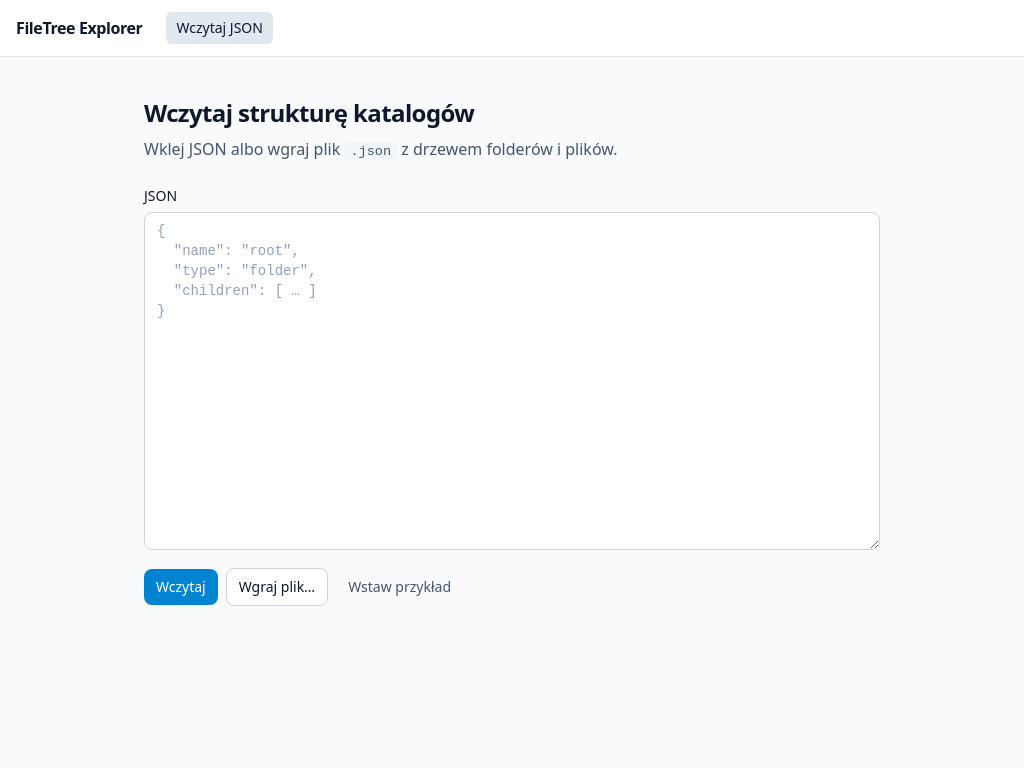
Test: routing › loads pasted JSON and opens the tree
Click the button "Wstaw przykład".
click(400, 587)  # box [336, 569, 463, 605]
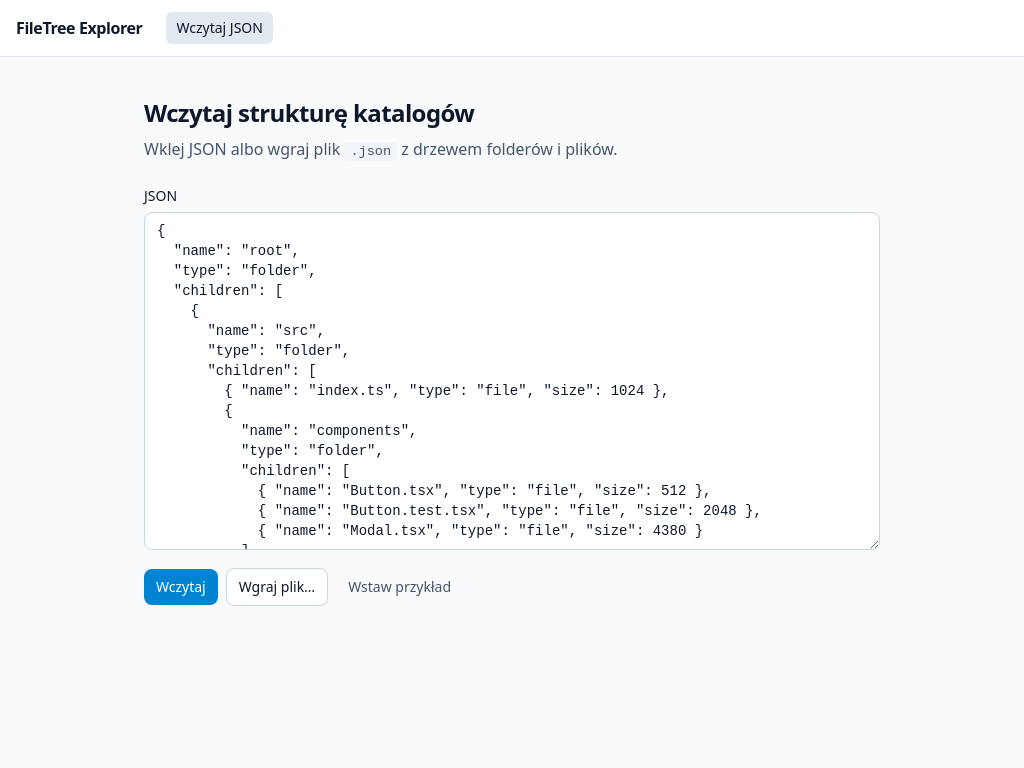
Click the button "Wczytaj".
click(181, 587)  # box [144, 569, 218, 605]
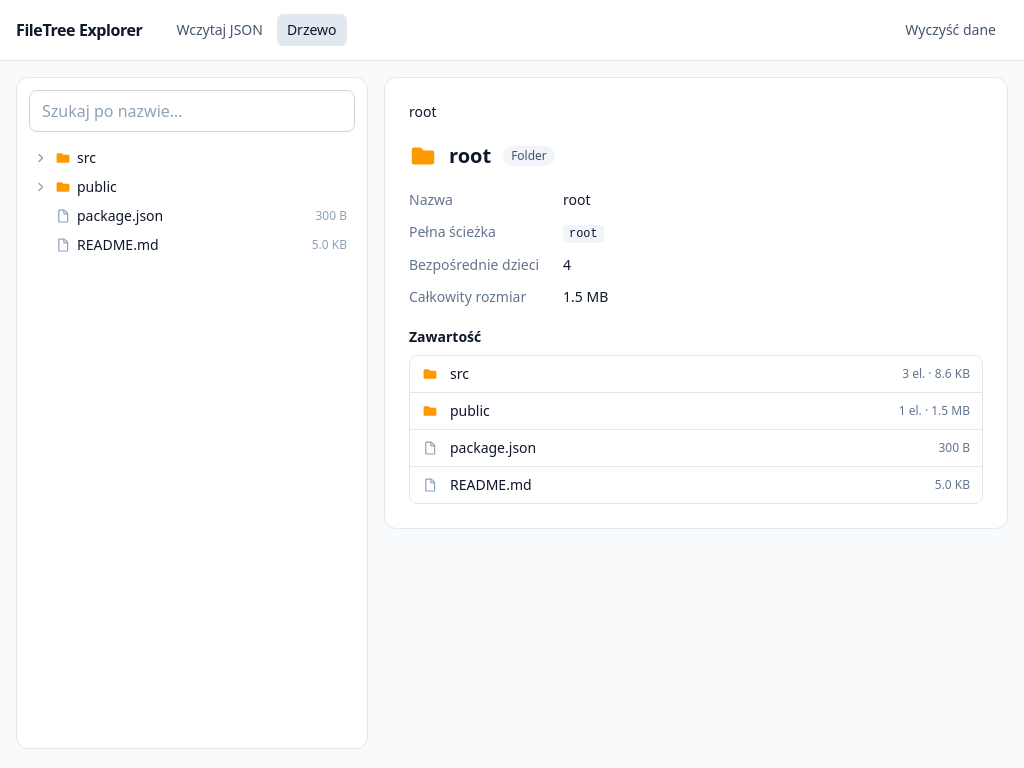
Now the heading "root" is shown, box [449, 142, 491, 170]
